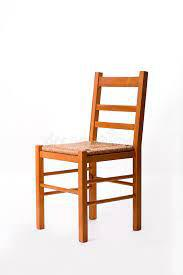chair: (21, 54, 155, 254)
